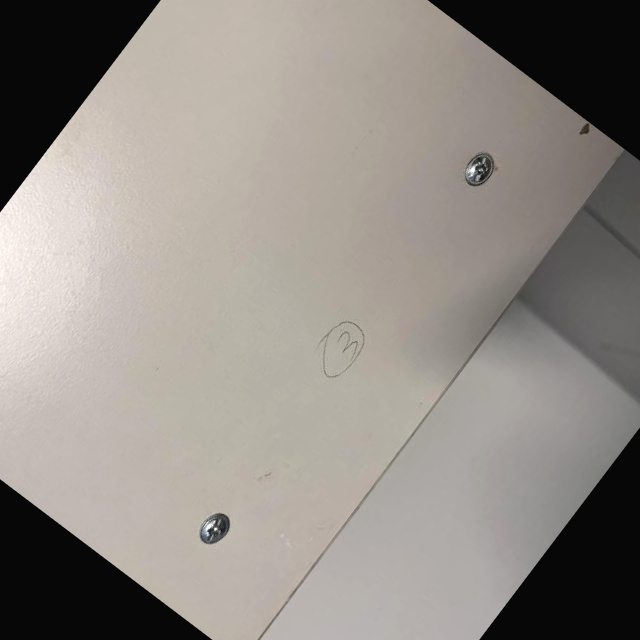pozidriv: (193, 506, 236, 551), (459, 148, 500, 192)
